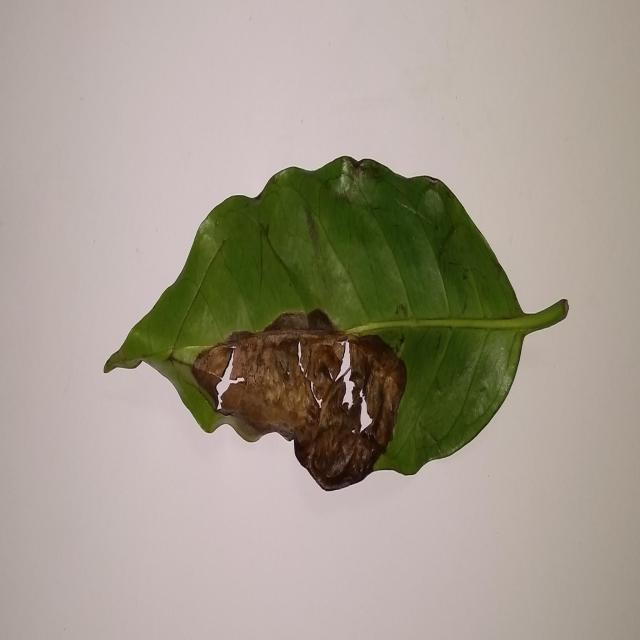Enfermedad-Antracnosis: (103, 157, 571, 494)
